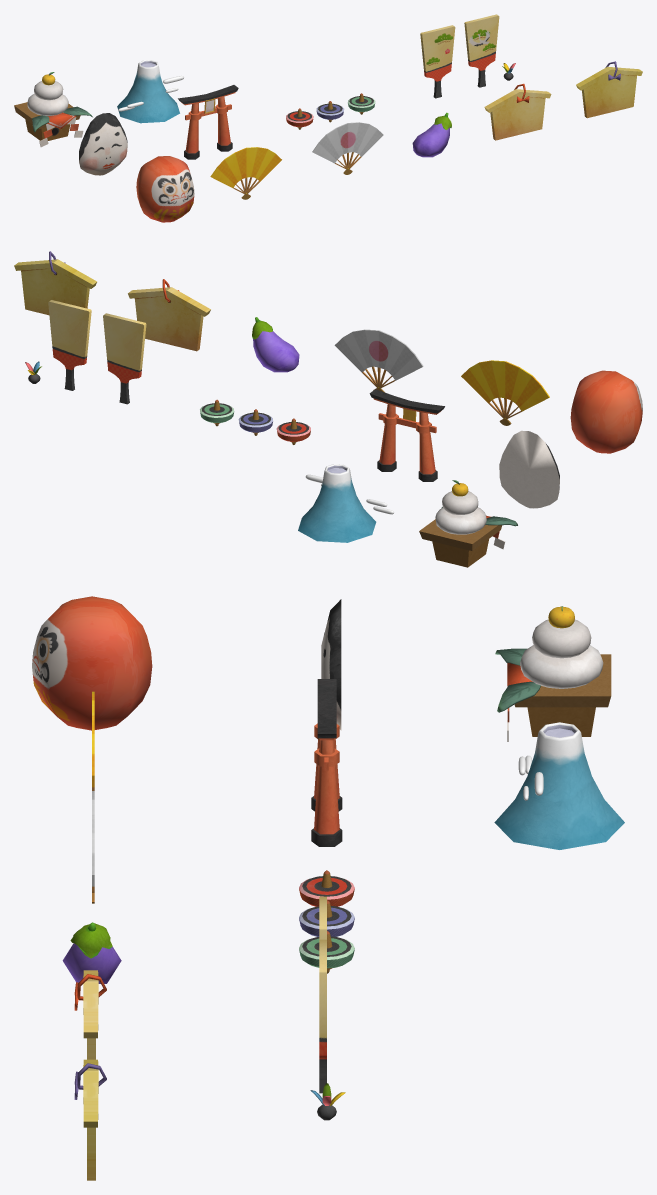
File: Items.fbx
3 views of the same model, one above another, from view 1: azimuth 30°, elevation 25°; view 2: azimuth 150°, elevation 25°; view 3: azimuth 270°, elevation 25° (orthographic). The views are drawn at different scales.
Parts seen in each view (by area): view 1: Daruma, Kagamimochi, Fuji, Ema, Ema.001, Mask, Sensu, Sensu2, Torii, Hagoita2, Hagoita, Eggplant (+3 smaller); view 2: Daruma, Kagamimochi, Fuji, Mask, Ema, Ema.001, Torii, Sensu, Sensu2, Hagoita, Hagoita2, Eggplant (+3 smaller); view 3: Daruma, Fuji, Kagamimochi, Torii, Eggplant, Ema.001, Mask, Ema, Top, Top3, Top2, Hagoita2.
Boxes of the visible parts, x1,y1,x2,y2 form: Daruma: [136, 156, 194, 222]; Kagamimochi: [14, 72, 92, 147]; Fuji: [117, 60, 183, 123]; Ema: [484, 83, 551, 140]; Ema.001: [576, 61, 642, 118]; Mask: [79, 113, 127, 175]; Sensu: [210, 147, 281, 199]; Sensu2: [312, 122, 383, 174]; Torii: [178, 85, 238, 159]; Hagoita2: [464, 14, 499, 87]; Hagoita: [420, 25, 455, 98]; Eggplant: [412, 112, 451, 157]; Daruma: [570, 370, 642, 453]; Kagamimochi: [419, 480, 517, 567]; Fuji: [298, 464, 393, 542]; Mask: [499, 430, 559, 508]; Ema: [128, 279, 210, 351]; Ema.001: [14, 251, 96, 315]; Torii: [369, 389, 444, 481]; Sensu: [461, 360, 549, 425]; Sensu2: [334, 329, 423, 392]; Hagoita: [103, 313, 146, 404]; Hagoita2: [48, 300, 91, 390]; Eggplant: [252, 317, 299, 372]; Daruma: [32, 596, 152, 730]; Fuji: [494, 722, 624, 849]; Kagamimochi: [495, 606, 611, 741]; Torii: [311, 679, 342, 846]; Eggplant: [62, 922, 121, 983]; Ema.001: [74, 1059, 106, 1180]; Mask: [321, 599, 341, 730]; Ema: [74, 970, 106, 1059]; Top: [299, 870, 354, 906]; Top3: [299, 931, 354, 973]; Top2: [299, 900, 354, 936]; Hagoita2: [319, 939, 326, 1093].
Bounding box in the file's own units: 497 × 64.54 × 253.
